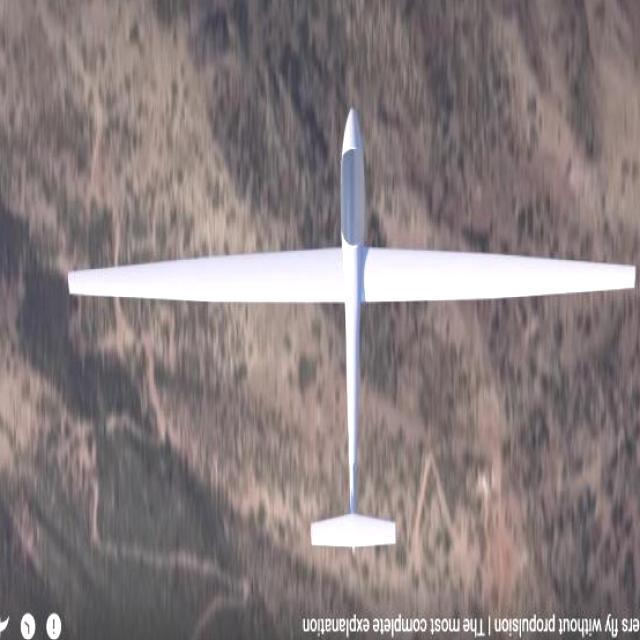plane: (65, 106, 638, 551)
